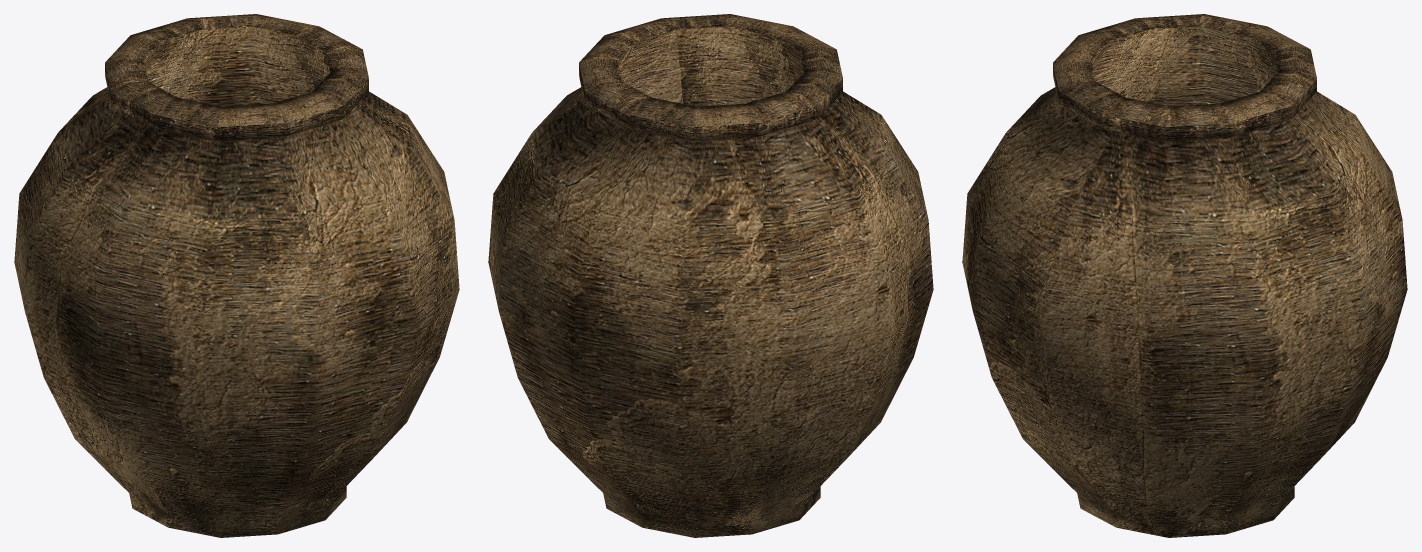
Rendered from crock2.obj.
3 renders of one model, left to right at view 1: azimuth 30°, elevation 25°; view 2: azimuth 150°, elevation 25°; view 3: azimuth 270°, elevation 25°, orthographic.
Parts seen in each view (by area): view 1: crock2.obj; view 2: crock2.obj; view 3: crock2.obj.
Part boxes in pixels (bbox=[...]): crock2.obj: bbox=[14, 14, 459, 537]; crock2.obj: bbox=[488, 14, 933, 537]; crock2.obj: bbox=[962, 14, 1407, 537].
Size of the model in its own units: 26.25 by 27.33 by 25.85.
1 material, 1 textured.
